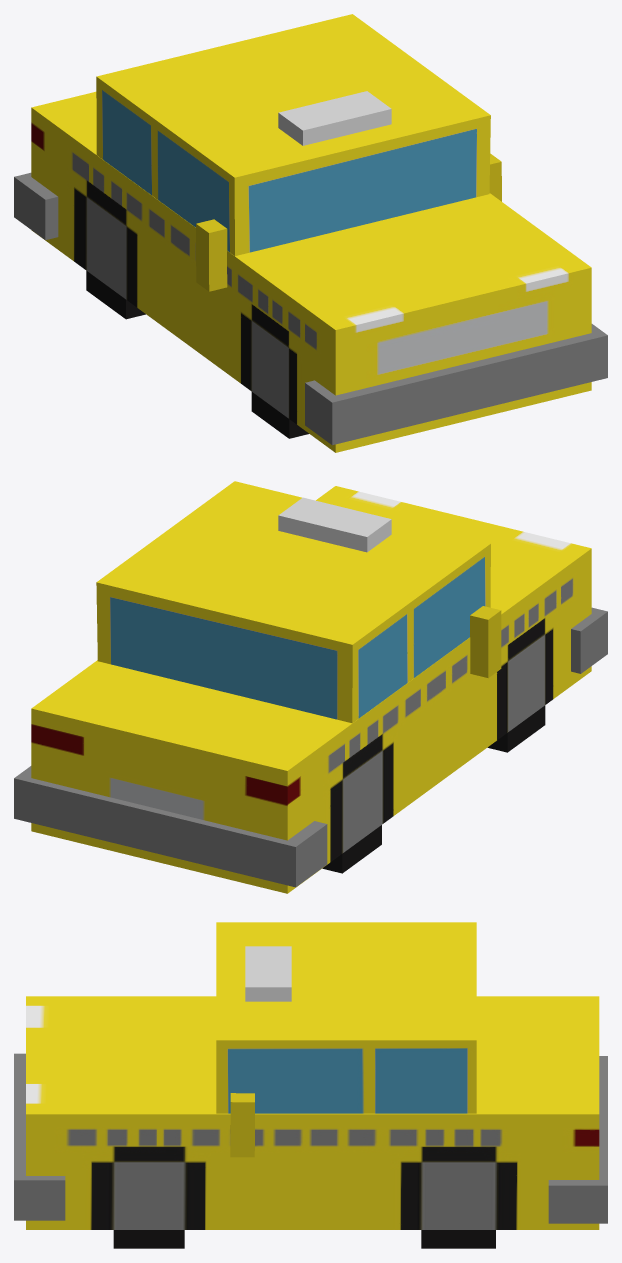
File: Taxi_unity.fbx
3 views of the same model, one above another, from view 1: azimuth 30°, elevation 25°; view 2: azimuth 150°, elevation 25°; view 3: azimuth 270°, elevation 25° (orthographic). The views are drawn at different scales.
Visible parts, largest first — view 1: Taxi; view 2: Taxi; view 3: Taxi.
Part boxes in pixels (x1,y1,x2,y2): Taxi: (14, 14, 607, 452); Taxi: (14, 481, 607, 893); Taxi: (14, 922, 607, 1248).
Bounding box in the file's own units: 5 × 3.86 × 9.32.
